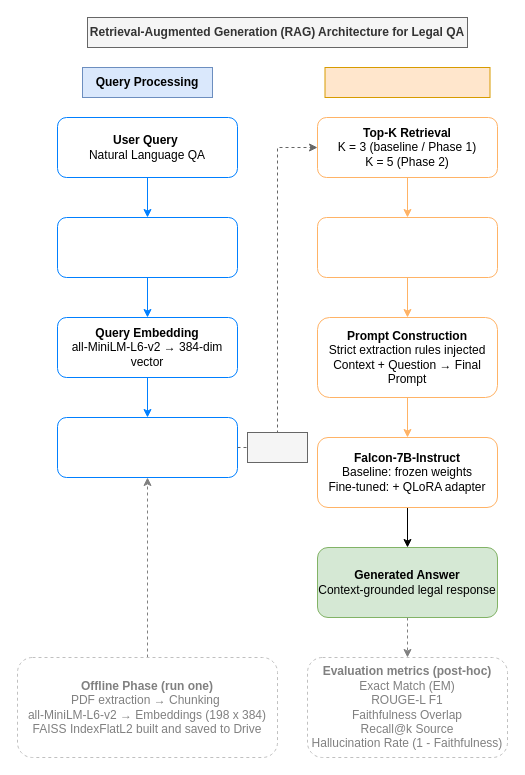
Some shapes in this 525 by 775 pixel diagram are drawn without their labels. Here are the shapes that lost their labels. From the top down, the box of each, then its label:
(324, 66, 490, 98): Retrieval & Generation
(56, 216, 238, 278): Query Preprocessing Tokenization & Normalization
(316, 216, 498, 278): Retrieved Legal Chunks Context text + Source & Page metadata
(56, 416, 238, 478): FAISS Similarity Search IndexFlatL2 - 198 legal chunks
(246, 432, 308, 462): Top- K results
